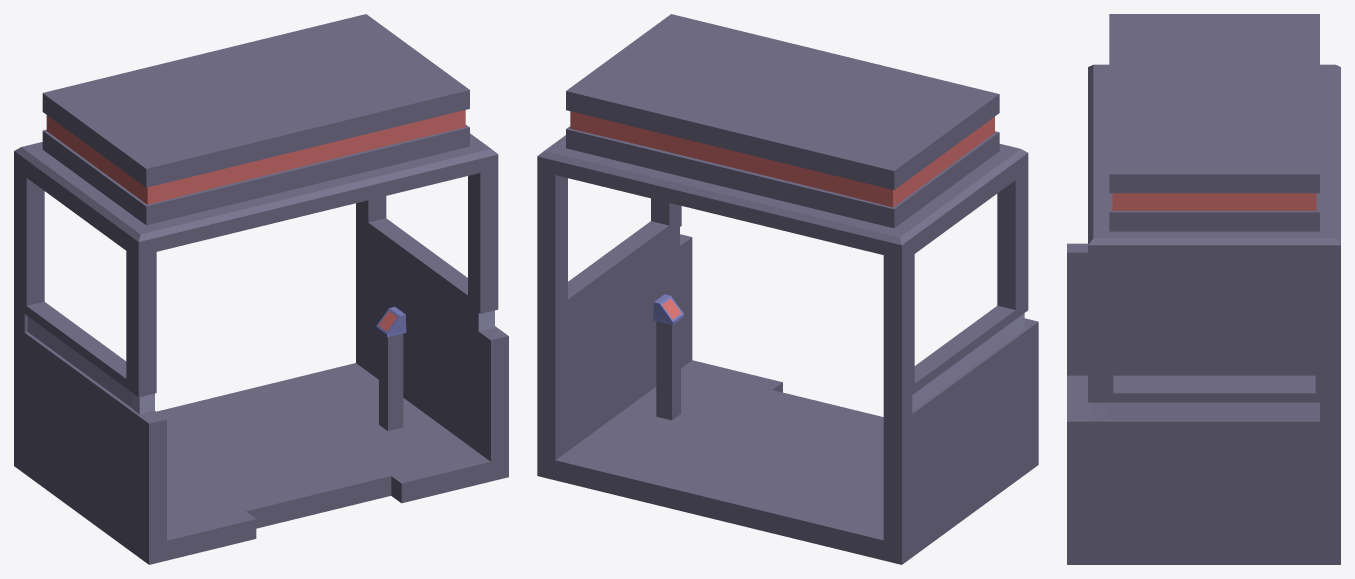
File: Elevator.fbx
The picture shows the model from 3 angles, left to right: view 1: azimuth 30°, elevation 25°; view 2: azimuth 150°, elevation 25°; view 3: azimuth 270°, elevation 25°; orthographic projection.
Visible parts, largest first — view 1: Elevator, Elevator button; view 2: Elevator, Elevator button; view 3: Elevator.
Part boxes in pixels (x1,y1,x2,y2): Elevator: (14, 14, 508, 564); Elevator button: (375, 307, 406, 430); Elevator: (537, 14, 1038, 564); Elevator button: (653, 294, 684, 420); Elevator: (1067, 14, 1340, 564).
Bounding box in the file's own units: 5.79 × 5.79 × 3.77.
